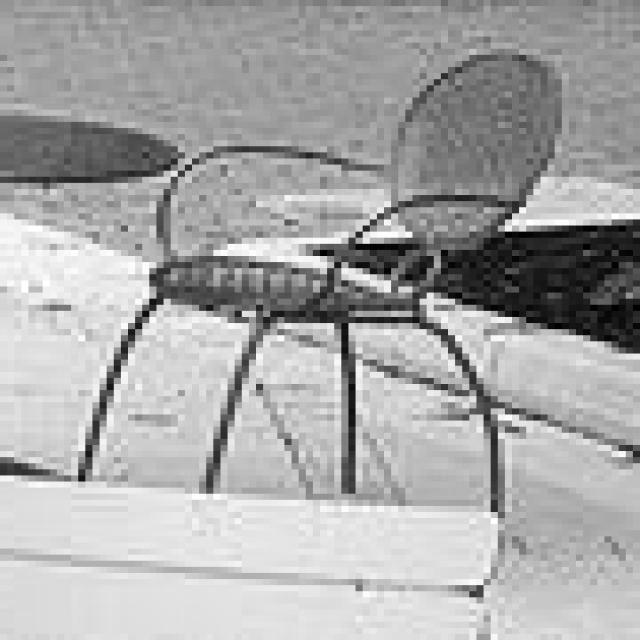chair: (74, 39, 566, 516)
